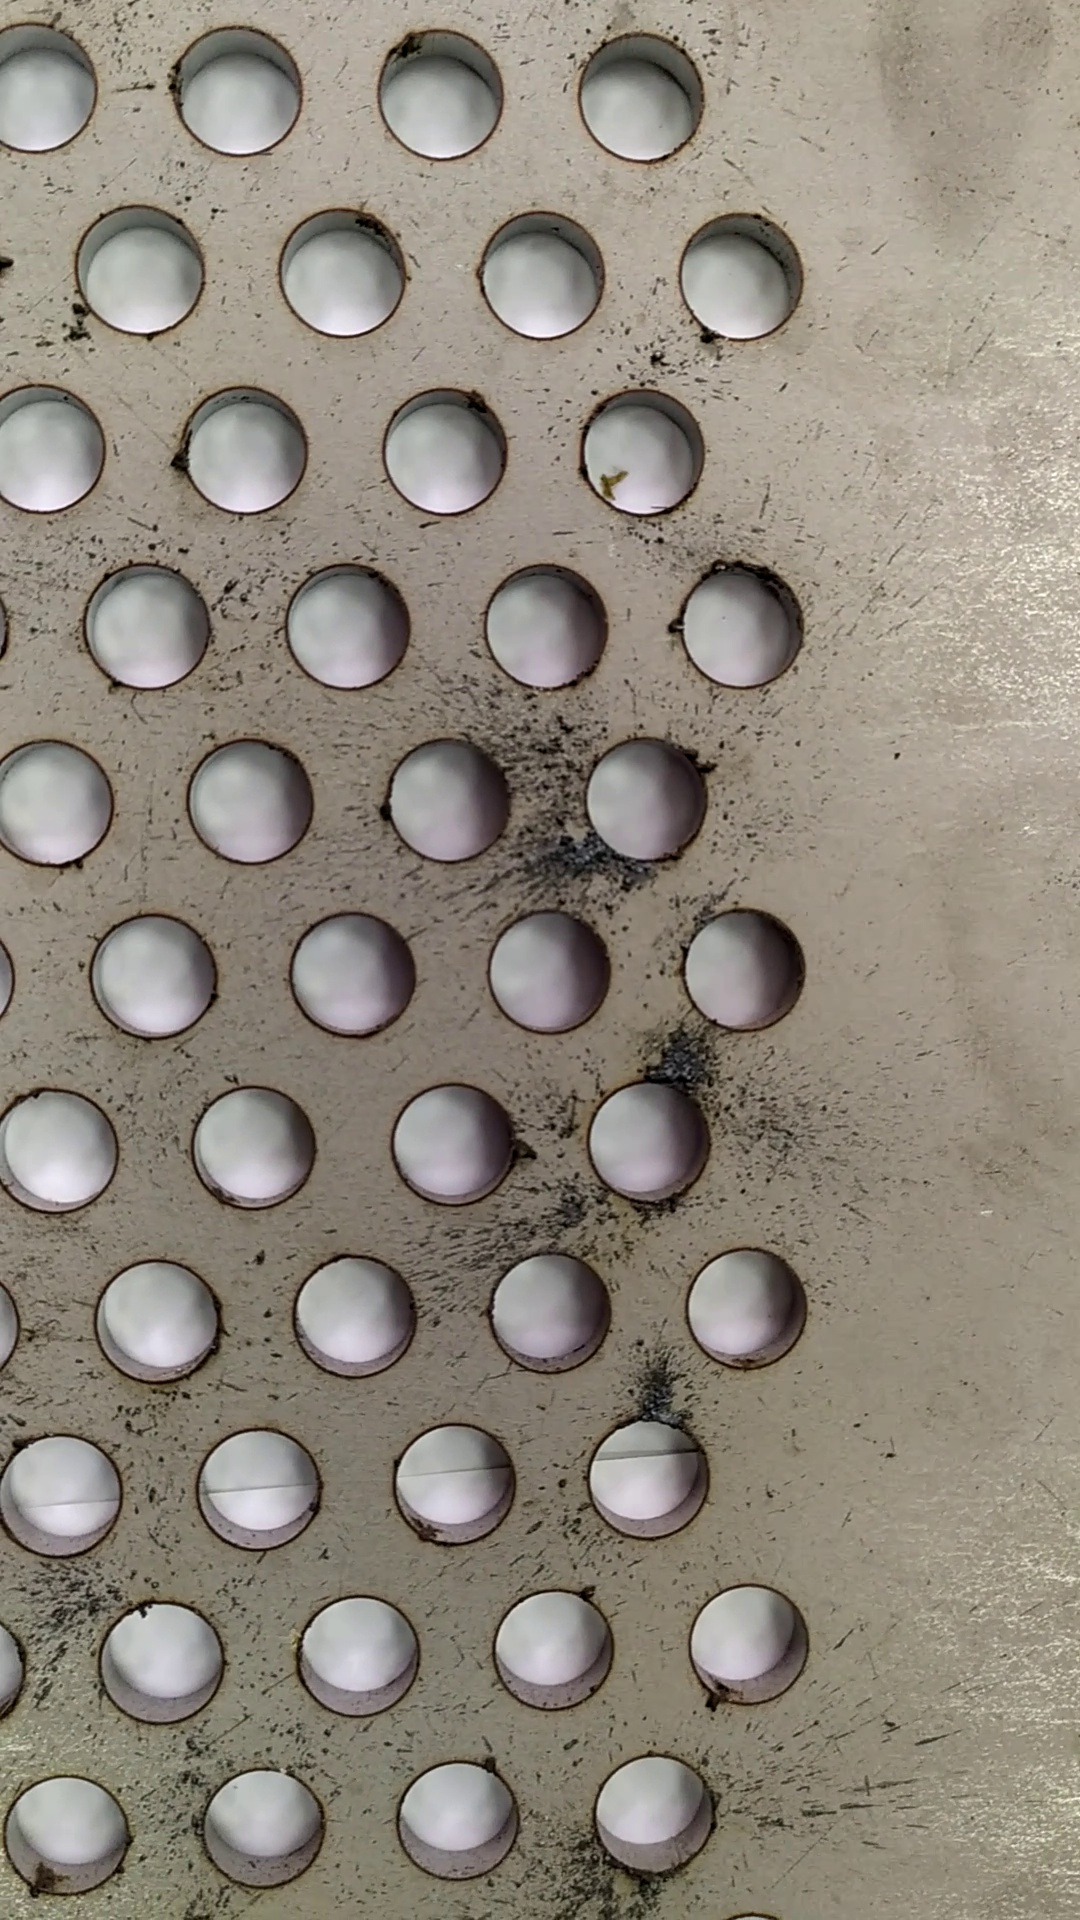Hole: (560, 371, 723, 530), (153, 15, 316, 166), (361, 13, 520, 166), (459, 200, 616, 348), (373, 1742, 530, 1888), (269, 550, 422, 699), (475, 1575, 630, 1720), (181, 1414, 336, 1556), (463, 556, 622, 694), (574, 731, 724, 876), (266, 200, 418, 344), (663, 200, 818, 342), (185, 1758, 343, 1895), (371, 728, 520, 872), (71, 191, 214, 342), (575, 1411, 727, 1552), (671, 899, 818, 1044), (679, 1573, 824, 1720), (567, 22, 705, 175), (75, 553, 216, 702), (79, 903, 228, 1044), (276, 1244, 425, 1385), (375, 1077, 527, 1213), (179, 731, 330, 868), (373, 378, 516, 522), (3, 1760, 142, 1907), (667, 554, 812, 694), (171, 381, 320, 517), (389, 1415, 530, 1557), (585, 1742, 727, 1884), (277, 909, 425, 1044), (185, 1081, 332, 1217), (281, 1596, 440, 1720), (84, 1250, 224, 1391), (92, 1597, 236, 1734), (680, 1232, 816, 1375), (481, 1244, 620, 1379), (578, 1079, 720, 1211), (483, 905, 616, 1038)
